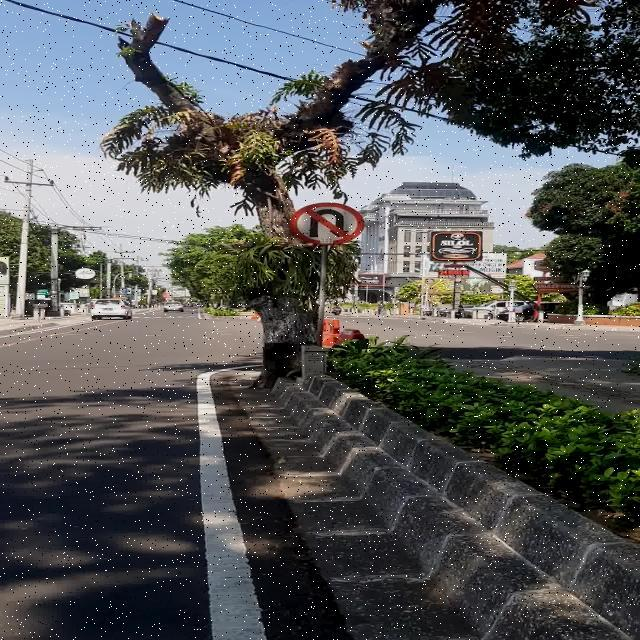Dilarang Putar Balik: (289, 202, 365, 244)
